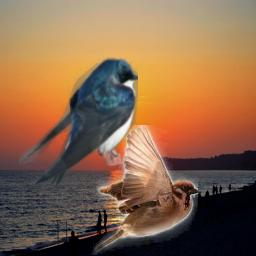Sparrow: (91, 125, 198, 255)
Swallow: (19, 57, 138, 187)
